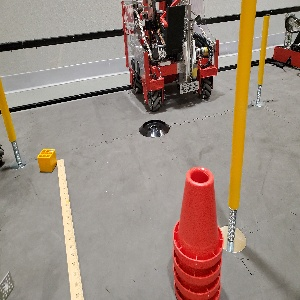Red_4: (170, 160, 223, 299)
